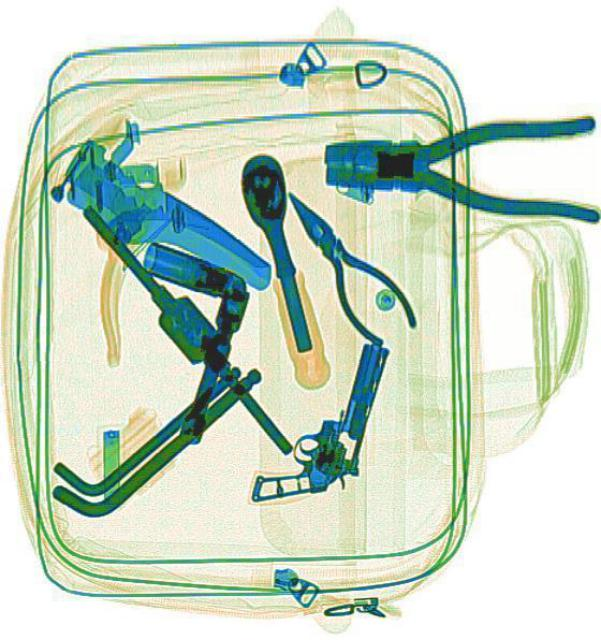Gun: (247, 320, 390, 522)
Pliers: (320, 114, 598, 222), (263, 172, 424, 358)
